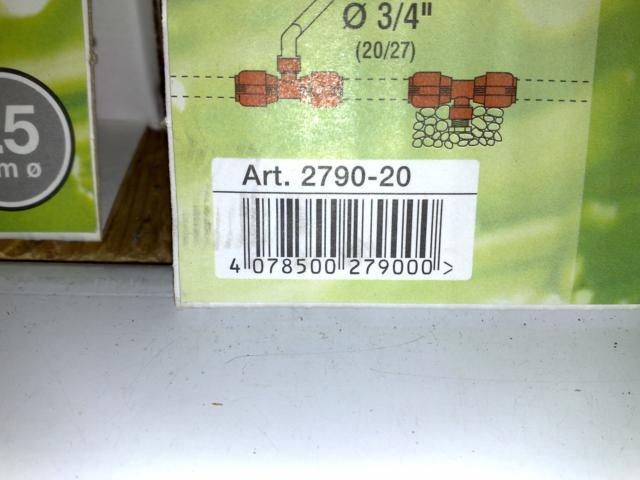Barcode: (211, 187, 479, 280)
